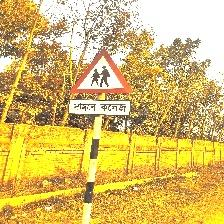College-in-front: (68, 45, 143, 118)
